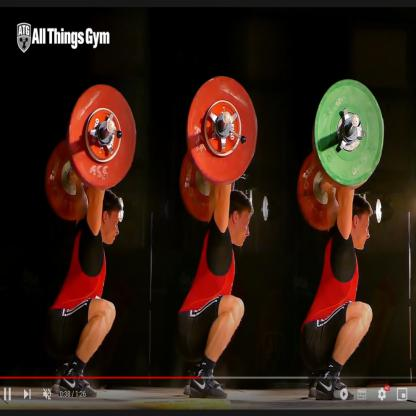Barbell: (182, 69, 262, 190), (312, 68, 388, 192), (64, 79, 143, 196)
